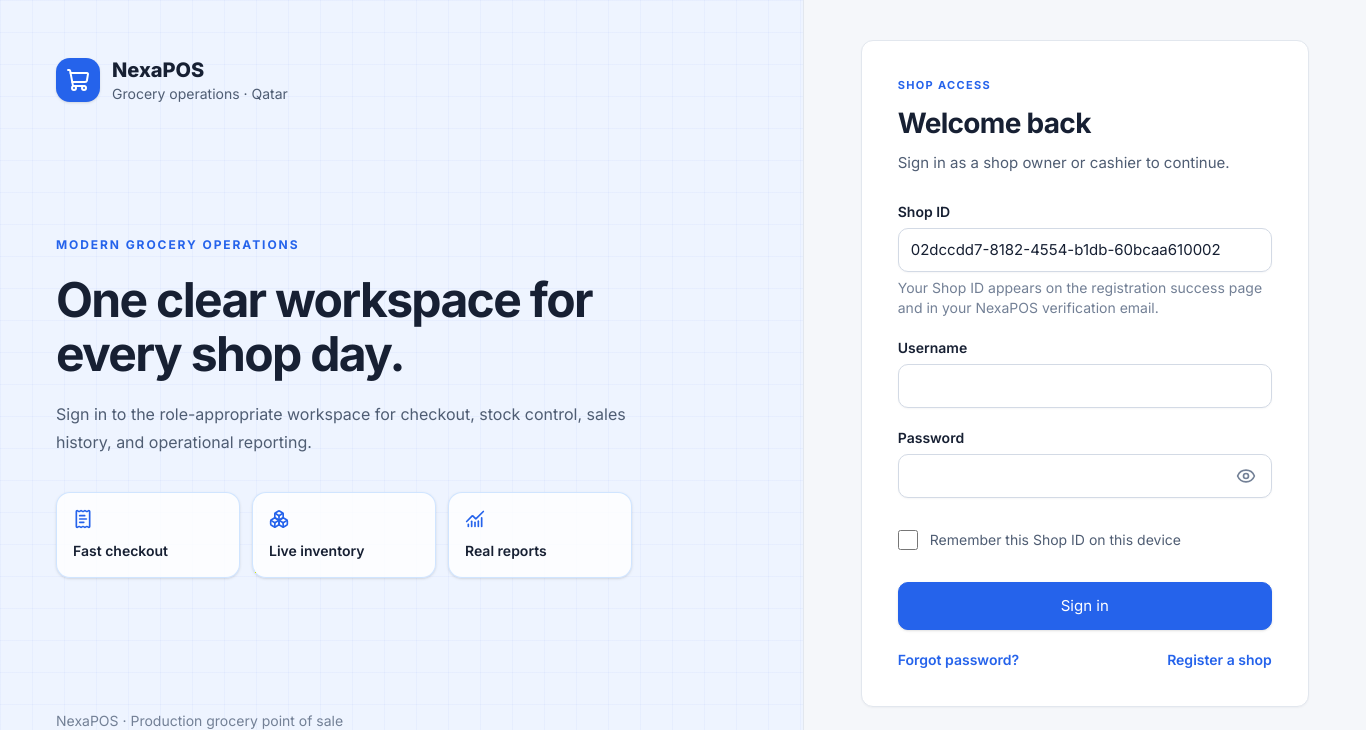
Scenario: login Shop ID handoff › resends verification with Shop ID and username using a generic response
The width and height of the screenshot is (1366, 730).
In the field labelled "Username": (1085, 386) [898,364,1272,408], type "owner"
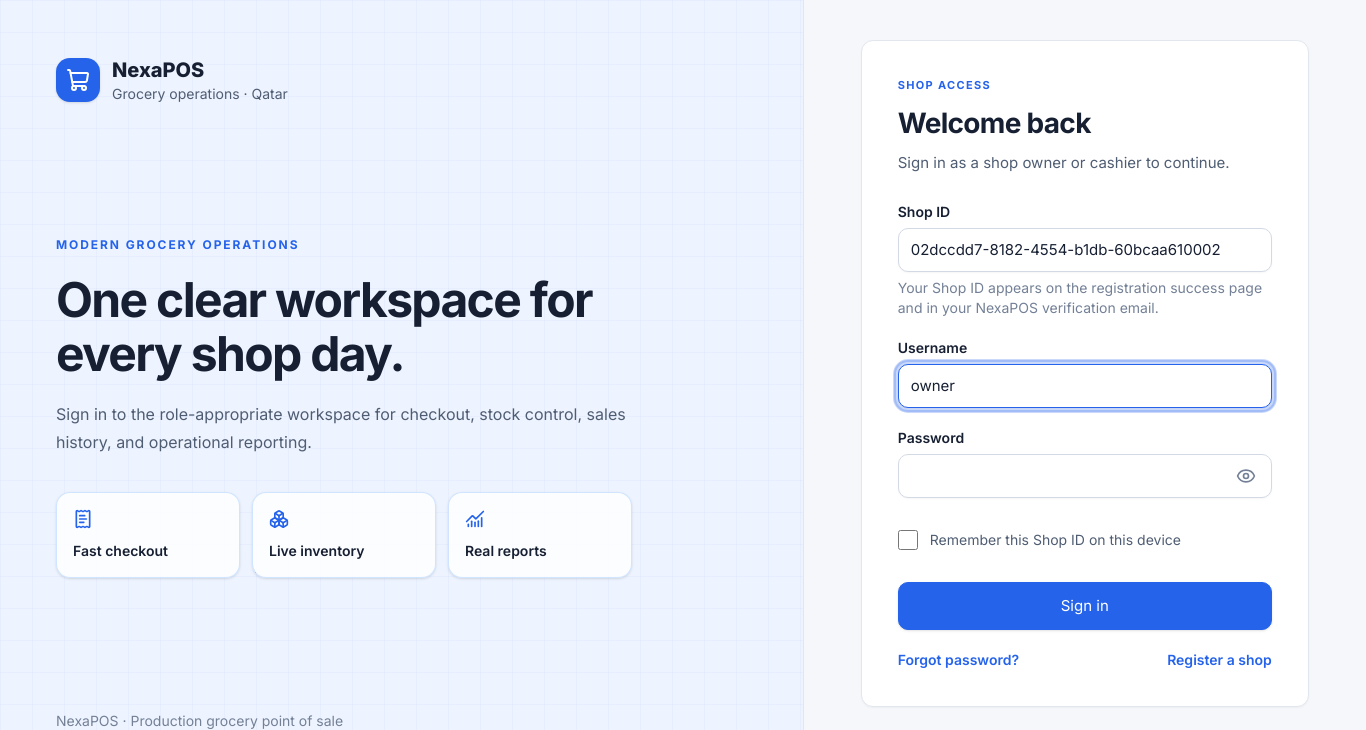
In the password field labelled "Password": (1085, 476) [898,454,1272,498], type "StrongPassword123!"
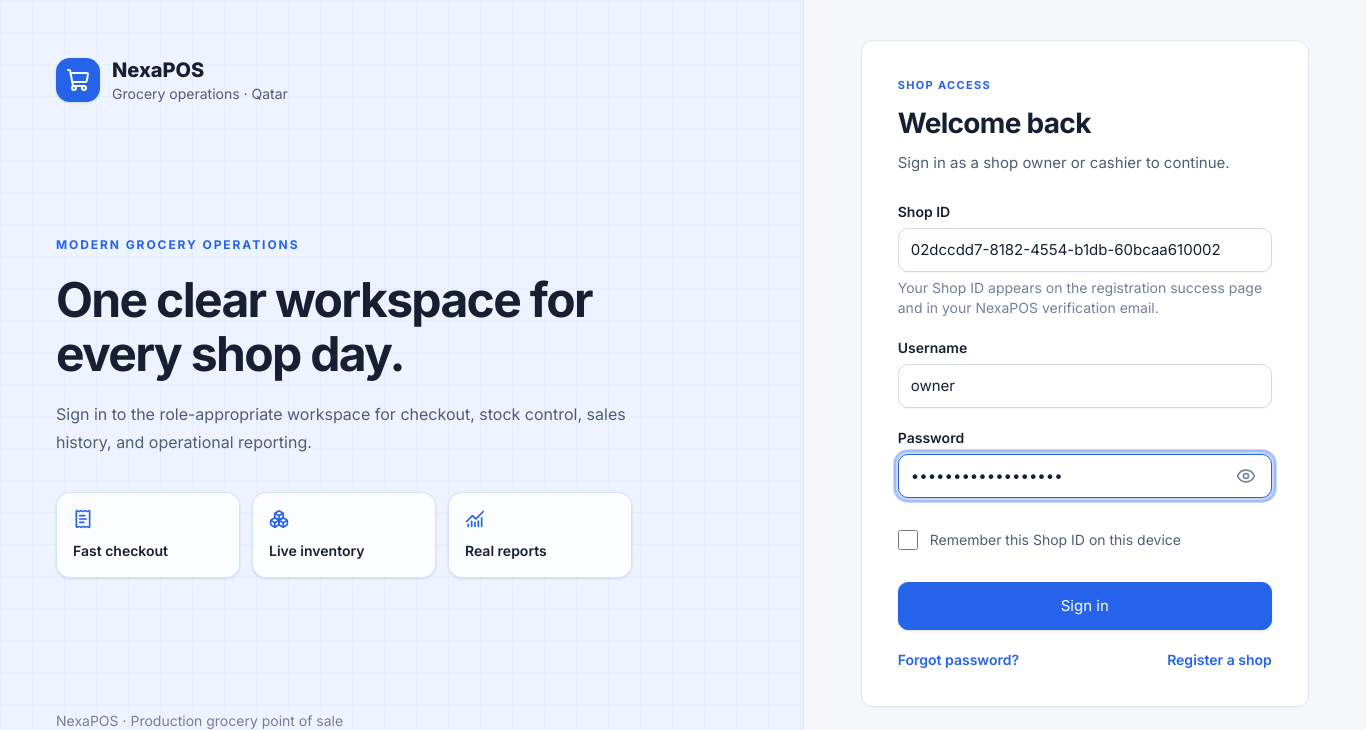
Click the button "Sign in": (1085, 606) [898,582,1272,630]
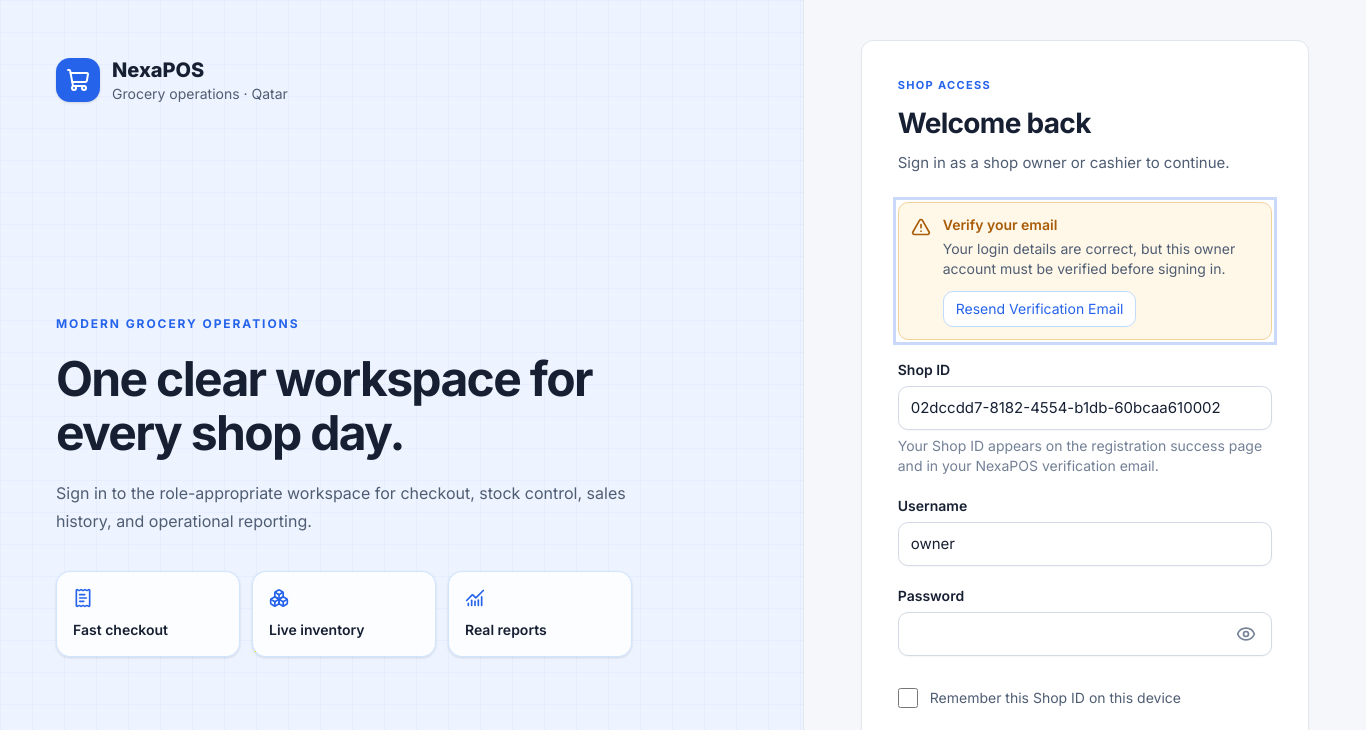
Click the button "Resend Verification Email": (1040, 309) [943,291,1136,327]
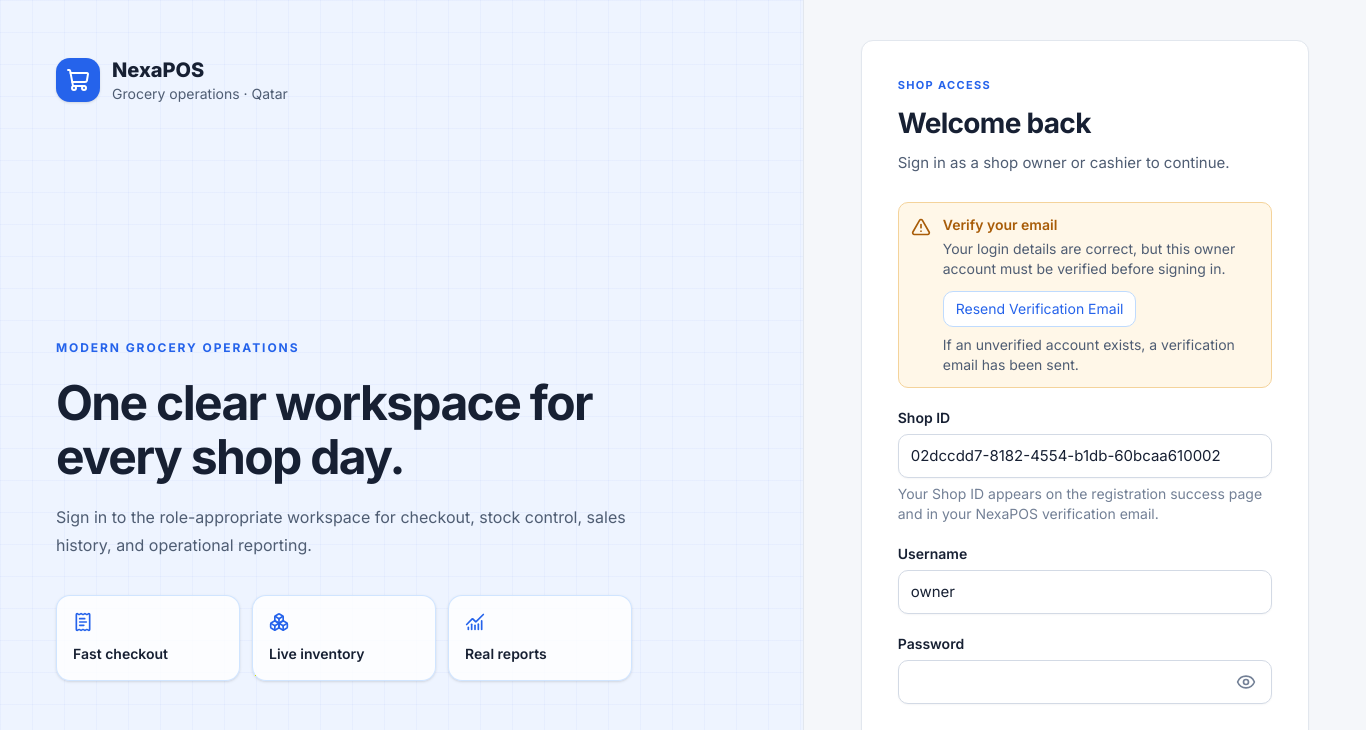
Now the text "If an unverified account exists, a verification email has been sent." is shown, box [943,335,1259,375]
